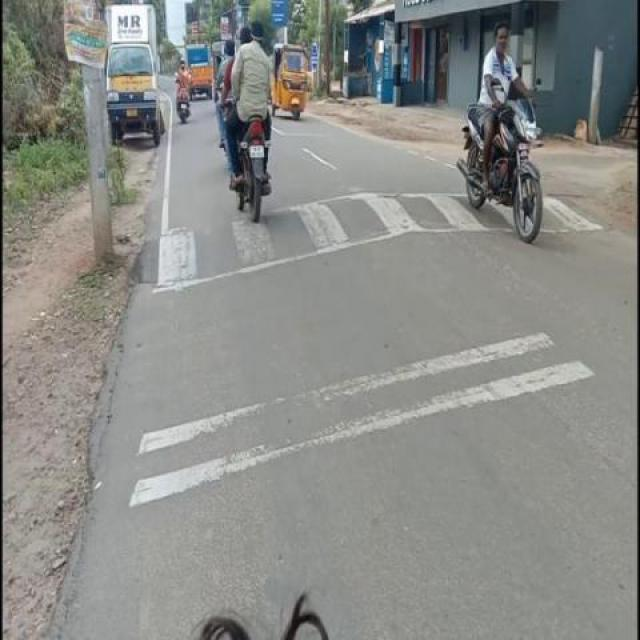Speed Bump: (131, 192, 513, 292), (542, 196, 604, 236)
